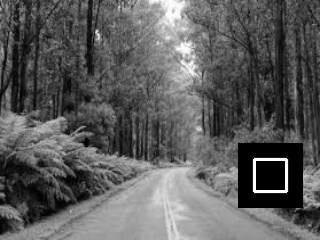square: (238, 143, 303, 208)
